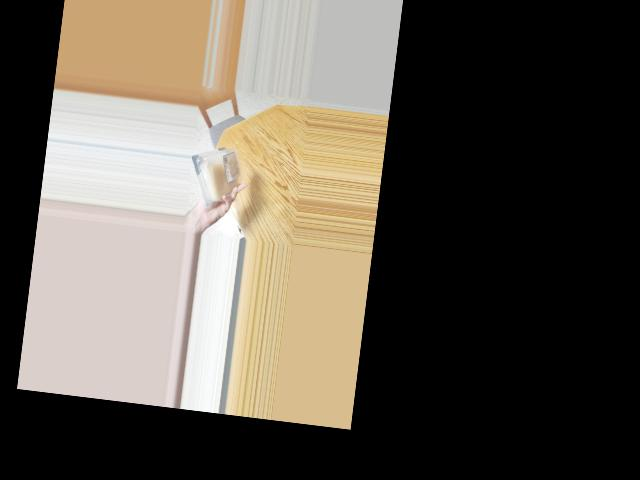cheese: (190, 144, 244, 204)
